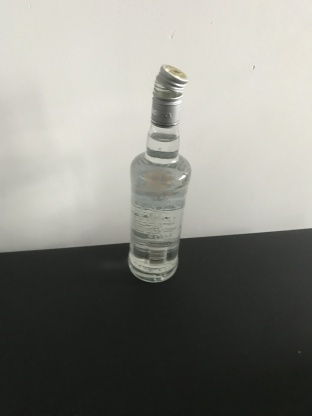nakretka: (149, 62, 189, 128)
